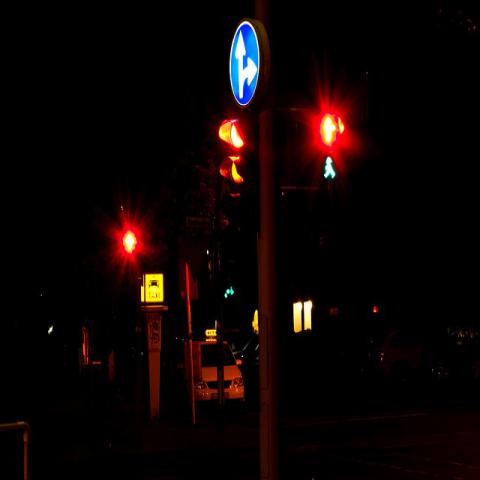car: (192, 339, 245, 402), (241, 337, 259, 377)
